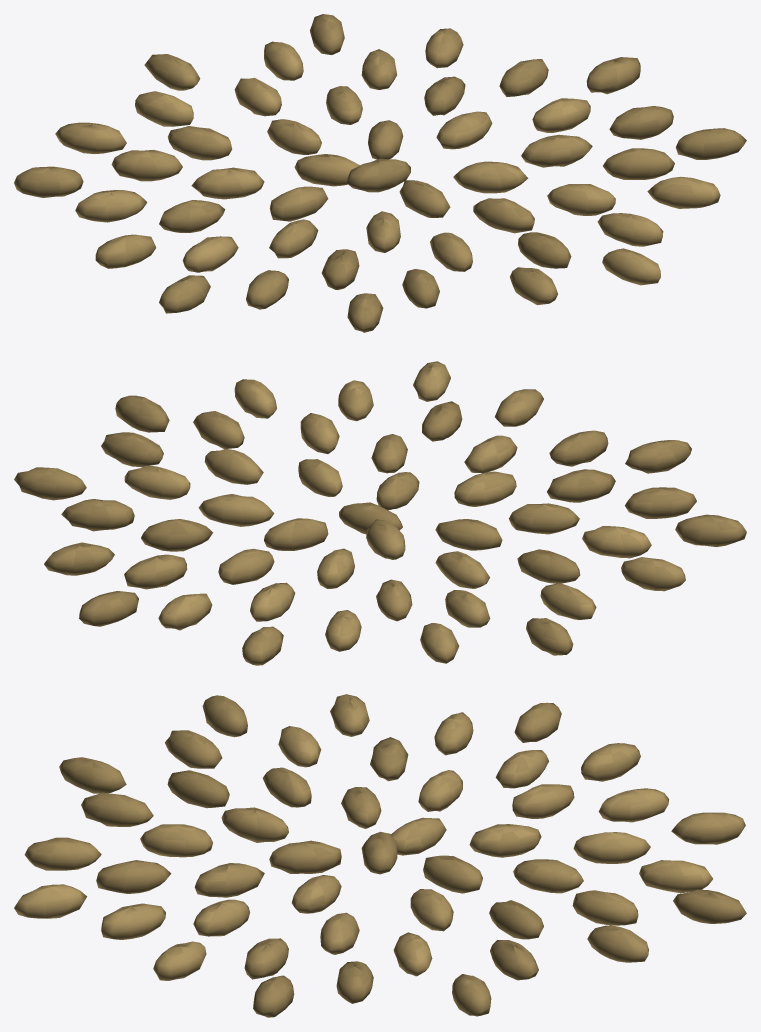
The model's file is Barley.glb.
3 views of the same model, one above another, from view 1: azimuth 30°, elevation 25°; view 2: azimuth 150°, elevation 25°; view 3: azimuth 270°, elevation 25° (orthographic). The views are drawn at different scales.
Visible parts, largest first — view 1: Barley; view 2: Barley; view 3: Barley.
Part boxes in pixels (<box>): Barley: <box>14,14,746,332</box>; Barley: <box>14,361,746,665</box>; Barley: <box>14,694,746,1017</box>.
Size of what is drawn, in the model's own units: 0.0635 by 0.00291 by 0.063.
